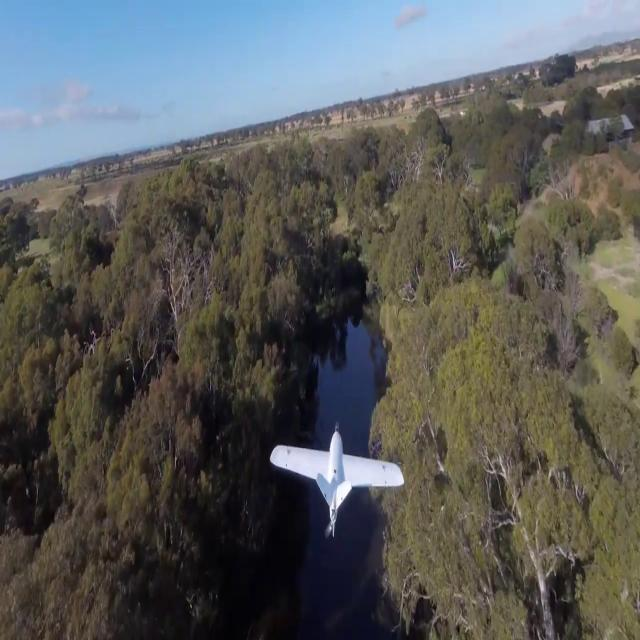iha: (271, 460, 404, 492)
